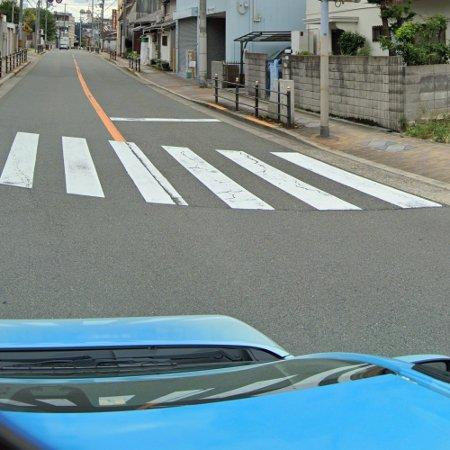crosswalks: (0, 125, 447, 211)
